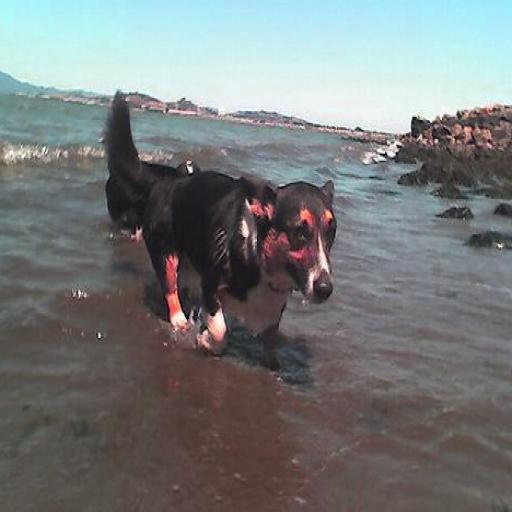dog_face: (243, 176, 342, 306)
